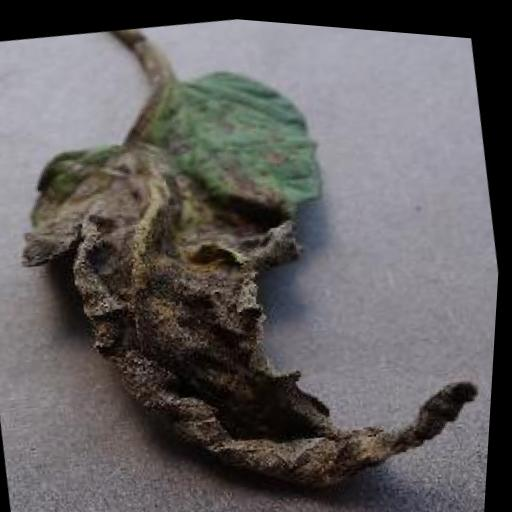Early Blight: (0, 12, 511, 512)
